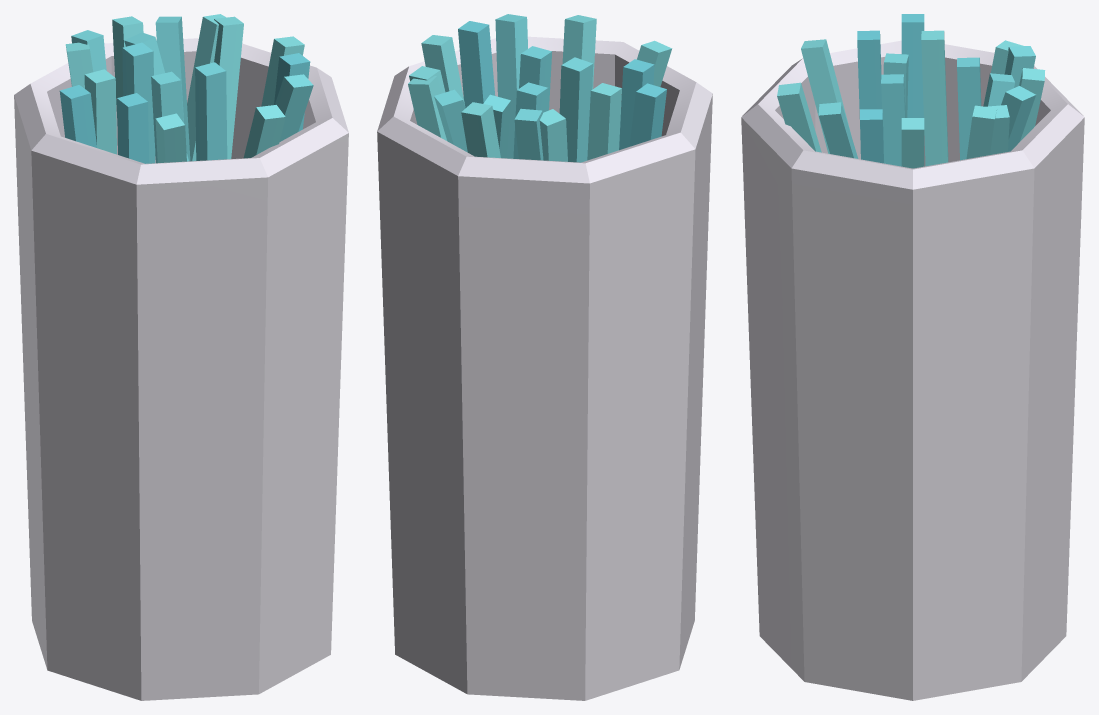
The model's file is StrawHolder_Mesh.fbx.
The picture shows the model from 3 angles, left to right: view 1: azimuth 30°, elevation 25°; view 2: azimuth 150°, elevation 25°; view 3: azimuth 270°, elevation 25°; orthographic projection.
Visible parts, largest first — view 1: StrawHolder_Mesh; view 2: StrawHolder_Mesh; view 3: StrawHolder_Mesh.
Part boxes in pixels (x1,y1,x2,y2): StrawHolder_Mesh: [14, 14, 348, 700]; StrawHolder_Mesh: [377, 14, 712, 700]; StrawHolder_Mesh: [741, 14, 1084, 700].
Bounding box in the file's own units: 18.14 × 33.05 × 18.14.
1 material, 1 textured.
